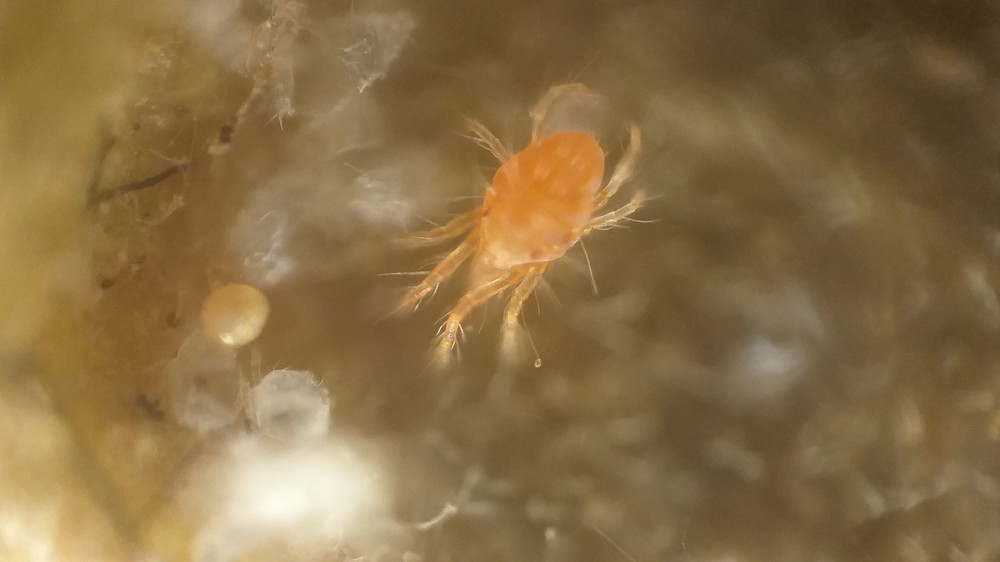Aracnido Rojo: (366, 79, 679, 395)
